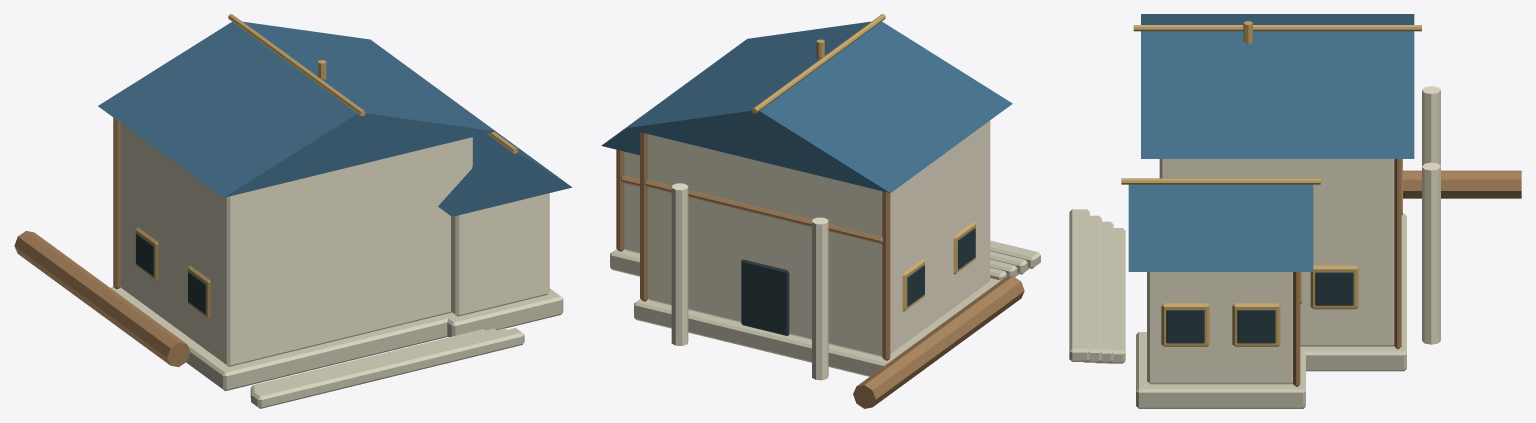
Rendered from level_30.glb.
3 renders of one model, left to right at view 1: azimuth 30°, elevation 25°; view 2: azimuth 150°, elevation 25°; view 3: azimuth 270°, elevation 25°, orthographic. The views are drawn at different scales.
Visible parts, largest first — view 1: timber_yard — level 30; view 2: timber_yard — level 30; view 3: timber_yard — level 30.
Part boxes in pixels (box(x1,y1,x2,y2)): timber_yard — level 30: box(14, 14, 572, 408); timber_yard — level 30: box(601, 14, 1040, 408); timber_yard — level 30: box(1069, 14, 1521, 408).
Size of the model in its own units: 6.43 by 4.26 by 6.12.
